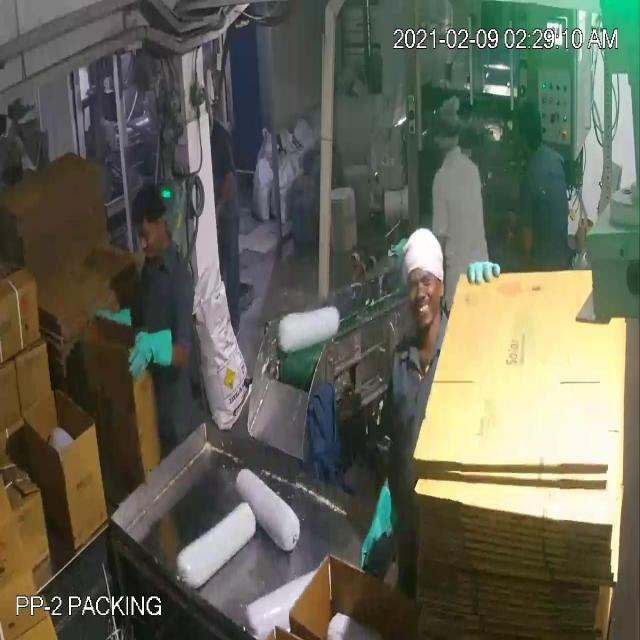Gloves: (26, 60, 380, 532)
